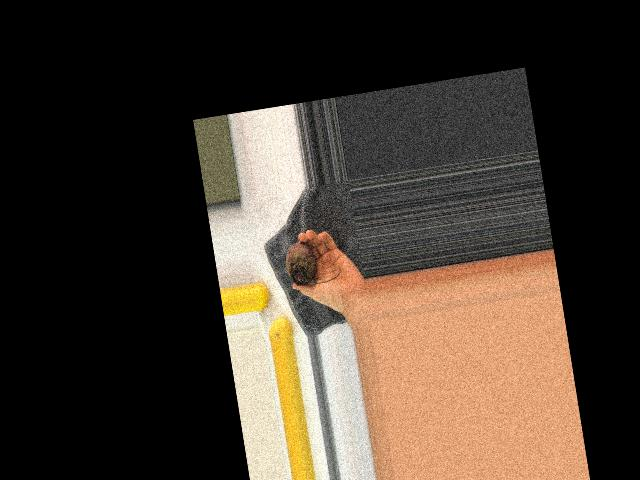beet: (282, 235, 342, 286)
